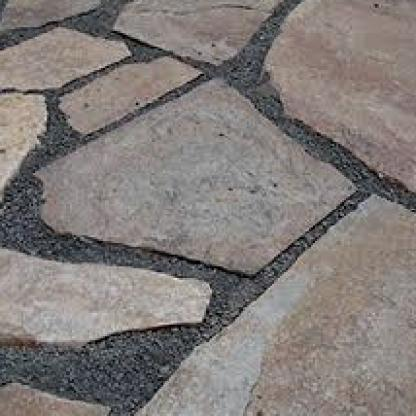Metamorphic_Quartize: (28, 68, 370, 282)
